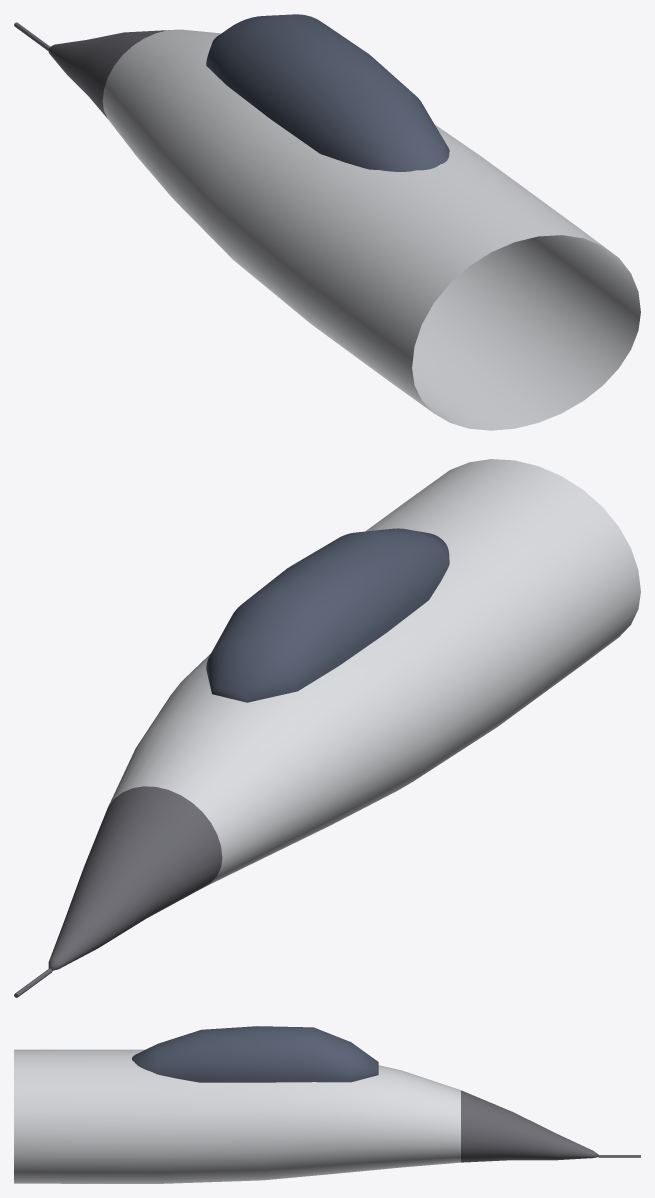
The model's file is f4_front.glb.
3 views of the same model, one above another, from view 1: azimuth 30°, elevation 25°; view 2: azimuth 150°, elevation 25°; view 3: azimuth 270°, elevation 25° (orthographic). The views are drawn at different scales.
Parts seen in each view (by area): view 1: f4_front; view 2: f4_front; view 3: f4_front.
Part boxes in pixels (left/top/right/bottom): f4_front: left=14, top=14, right=640, bottom=430; f4_front: left=14, top=459, right=640, bottom=997; f4_front: left=14, top=1026, right=640, bottom=1183.
Bounding box in the file's own units: 1.31 × 1.26 × 5.02.
